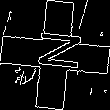N_W: (28, 32, 82, 78)
